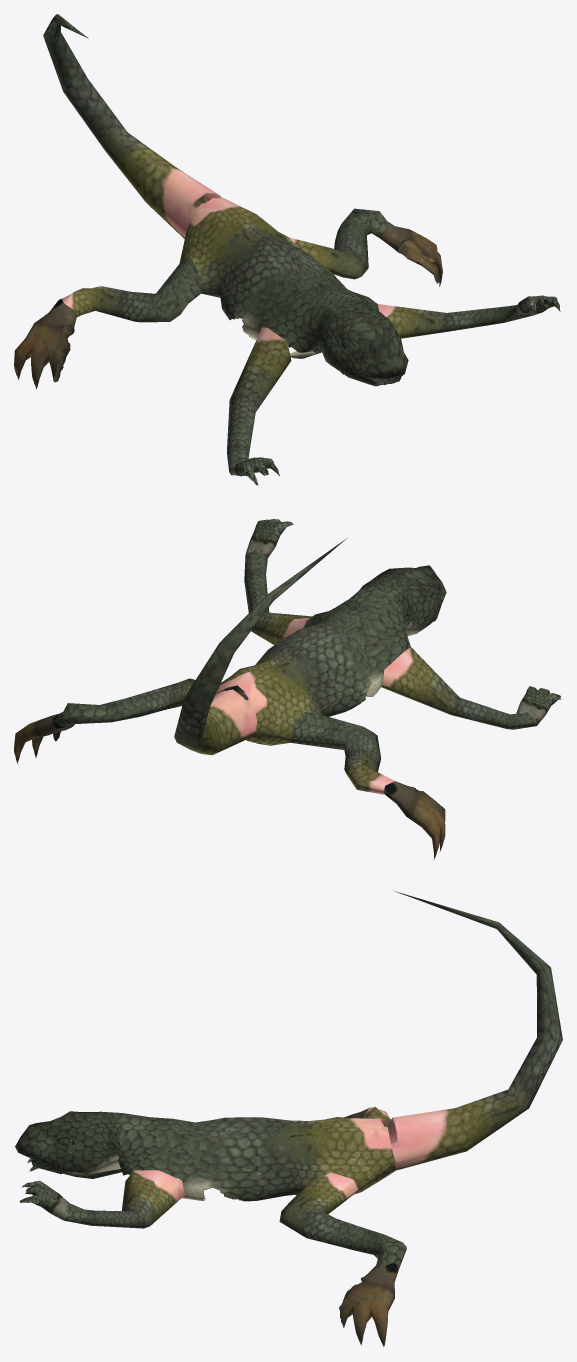
Rendered from lizard_exp.obj.
3 views of the same model, one above another, from view 1: azimuth 30°, elevation 25°; view 2: azimuth 150°, elevation 25°; view 3: azimuth 270°, elevation 25° (orthographic). The views are drawn at different scales.
Parts seen in each view (by area): view 1: Cube_Cube.002; view 2: Cube_Cube.002; view 3: Cube_Cube.002.
Boxes of the visible parts, x1,y1,x2,y2 form: Cube_Cube.002: [14, 14, 560, 485]; Cube_Cube.002: [14, 519, 561, 860]; Cube_Cube.002: [15, 890, 562, 1346].
Bounding box in the file's own units: 1.41 × 1.01 × 1.66.
